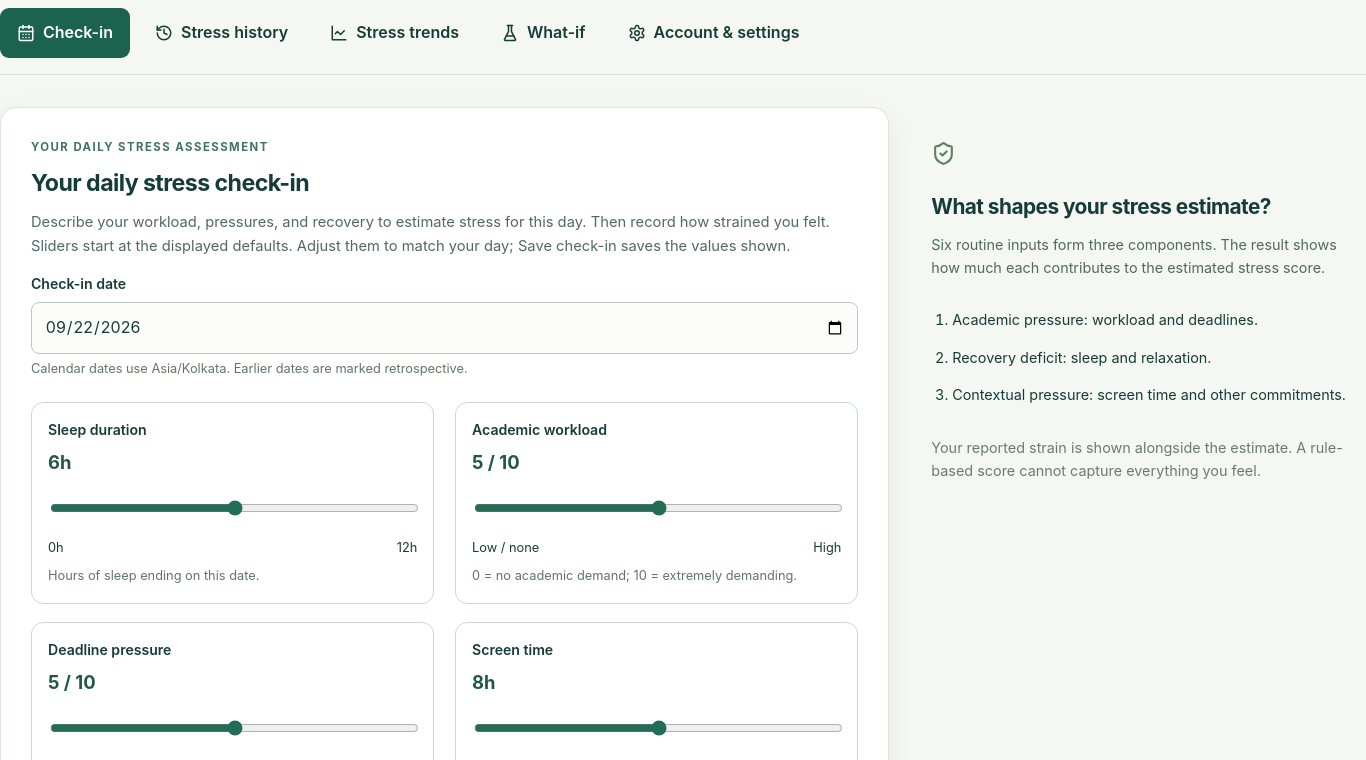
Test: renders backend guidance with its explanation on a saved result
Click the button "Stress history" at point(222, 33), box left=138, top=8, right=305, bottom=58
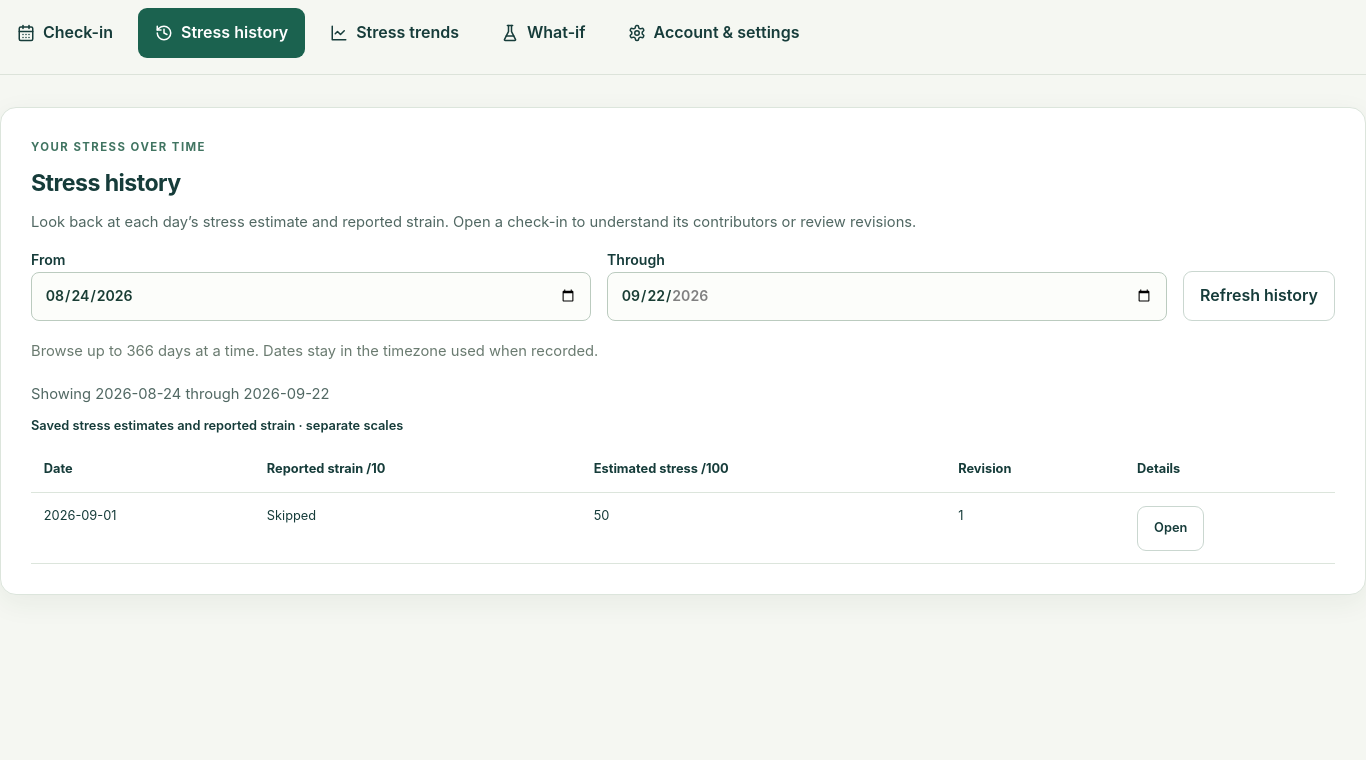
Click the button with aria-label "Open 2026-09-01" at point(1171, 528), box left=1137, top=506, right=1204, bottom=551
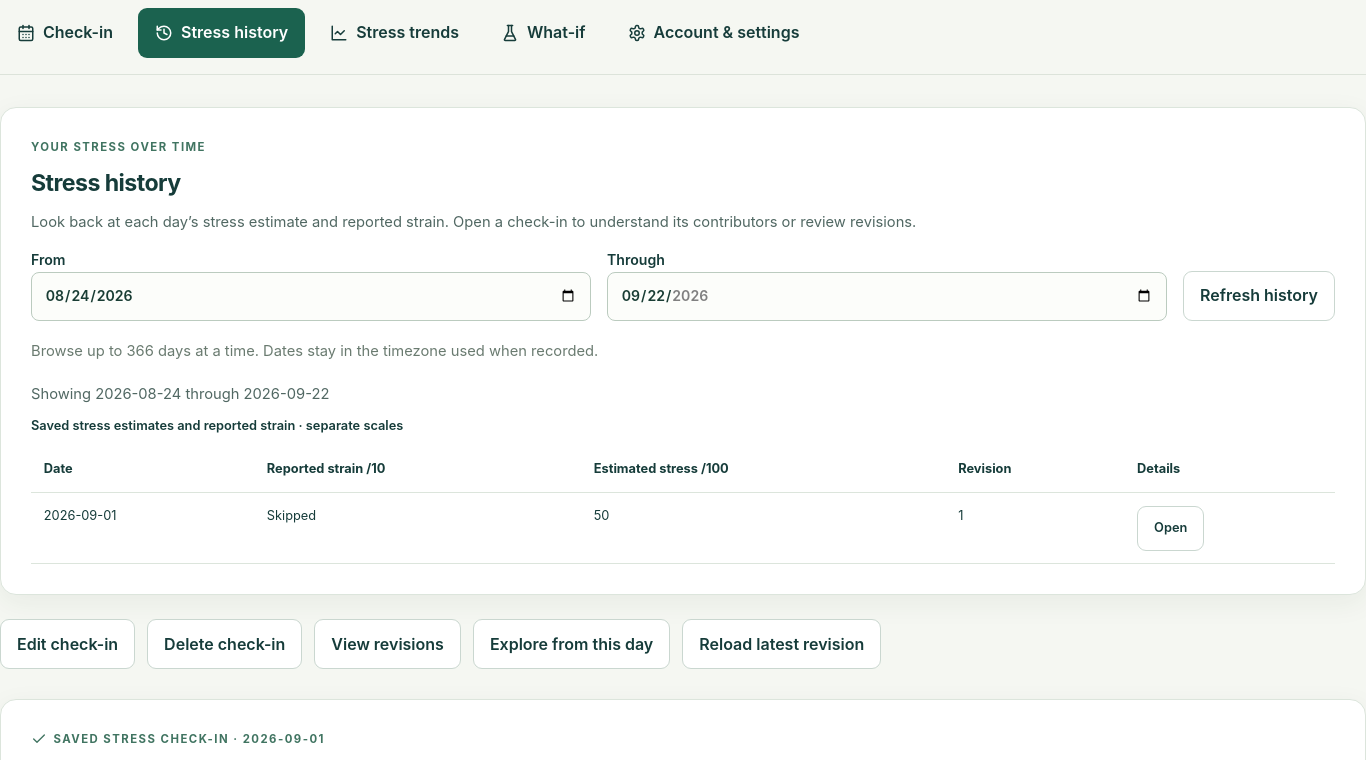
Expected: the button "Edit check-in" is shown, left=0, top=619, right=135, bottom=669
